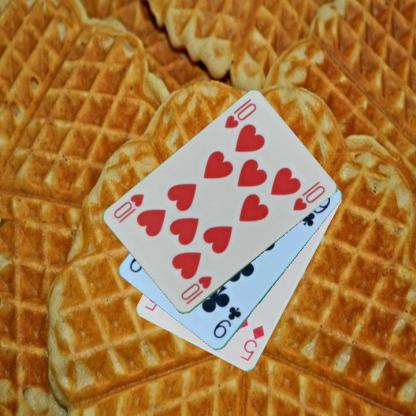10h: (178, 274, 213, 306), (222, 101, 258, 130)
5d: (237, 323, 266, 363)
9c: (210, 304, 243, 340)
